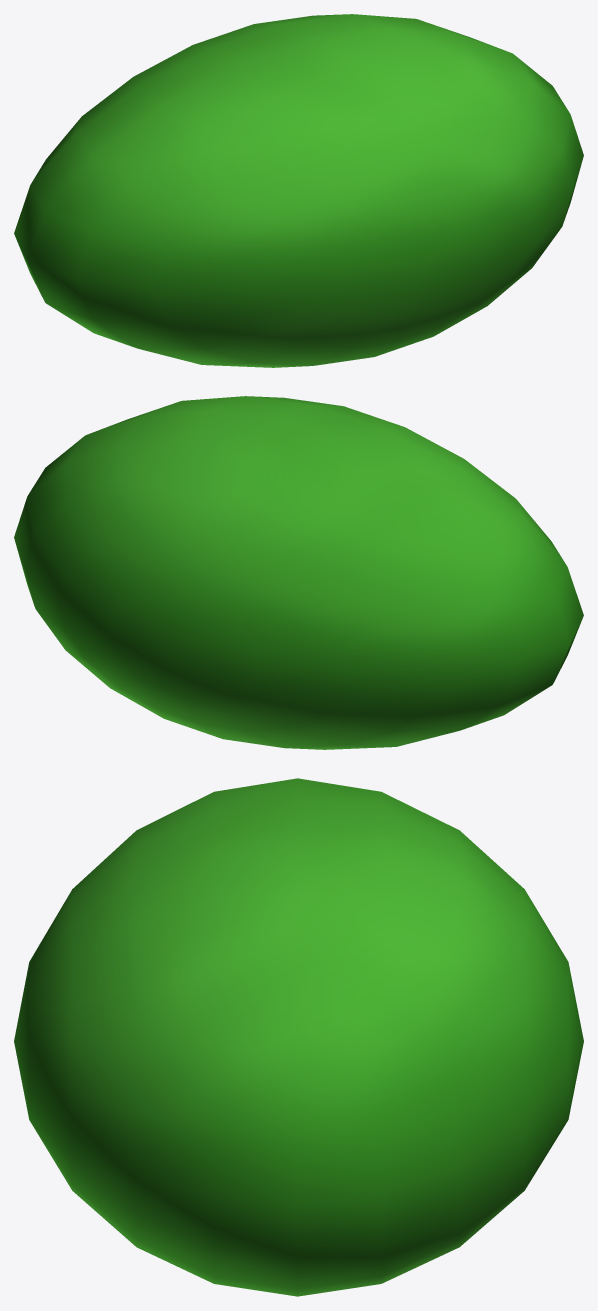
The model's file is Steen Groen.FBX.
The picture shows the model from 3 angles, top to bottom: view 1: azimuth 30°, elevation 25°; view 2: azimuth 150°, elevation 25°; view 3: azimuth 270°, elevation 25°; orthographic projection. The views are drawn at different scales.
Visible parts, largest first — view 1: Steen; view 2: Steen; view 3: Steen.
Boxes of the visible parts, <box> form: Steen: <box>14,14,583,367</box>; Steen: <box>14,396,583,749</box>; Steen: <box>14,778,583,1296</box>.
Size of the model in its own units: 88.39 by 47.32 by 60.47.
1 material, 1 textured.
